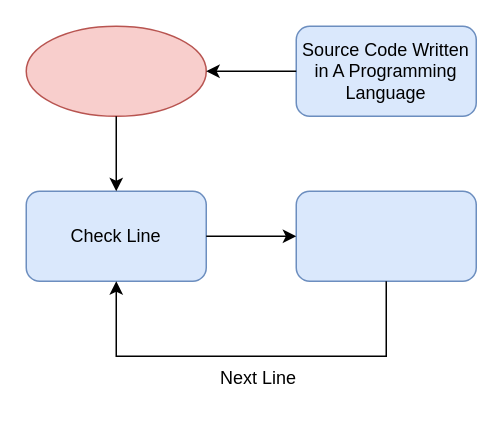
The diagram is 503 pixels wide and 428 high, and some of its shapes have lost their labels. Each missing label, with the centre of its shape:
Interpreter: point (115, 70)
Translate into machine code at runtime and execute: point (385, 235)
